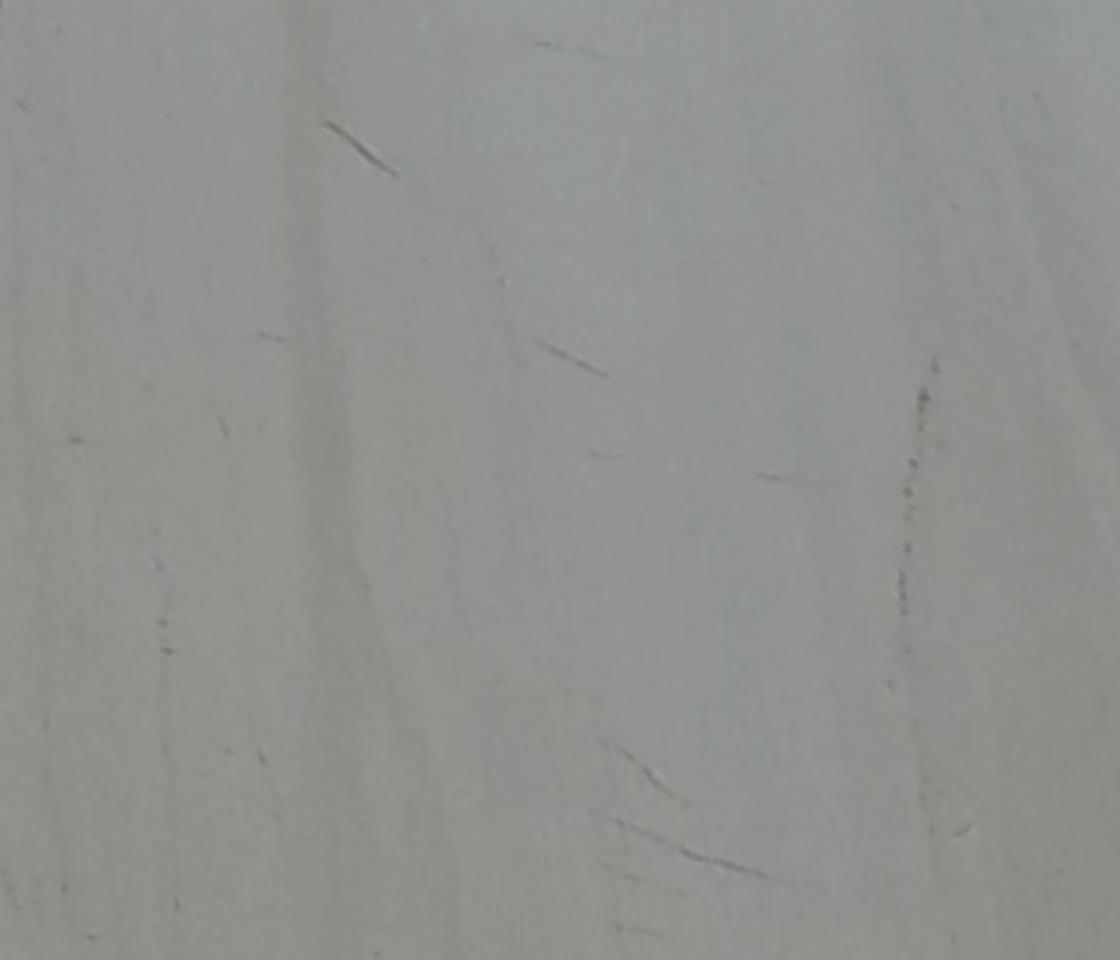scratch: (313, 114, 400, 179), (614, 732, 691, 805), (528, 326, 613, 385)
